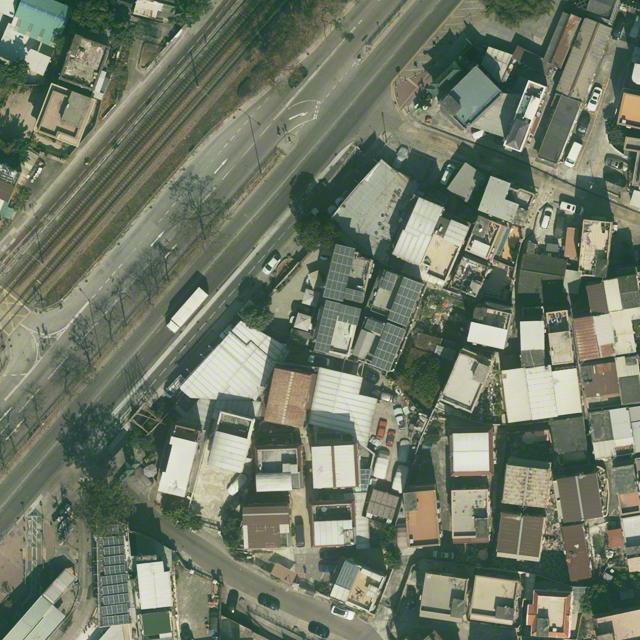panel: (322, 244, 356, 303), (387, 277, 425, 327), (370, 322, 406, 372), (313, 299, 342, 354), (339, 304, 362, 325), (344, 287, 366, 303), (365, 317, 385, 334), (102, 614, 129, 626), (102, 604, 129, 616), (381, 271, 397, 291), (103, 583, 128, 595), (101, 574, 128, 585), (103, 594, 129, 605), (104, 556, 126, 565), (104, 546, 126, 555), (104, 565, 126, 573), (103, 537, 124, 544)
